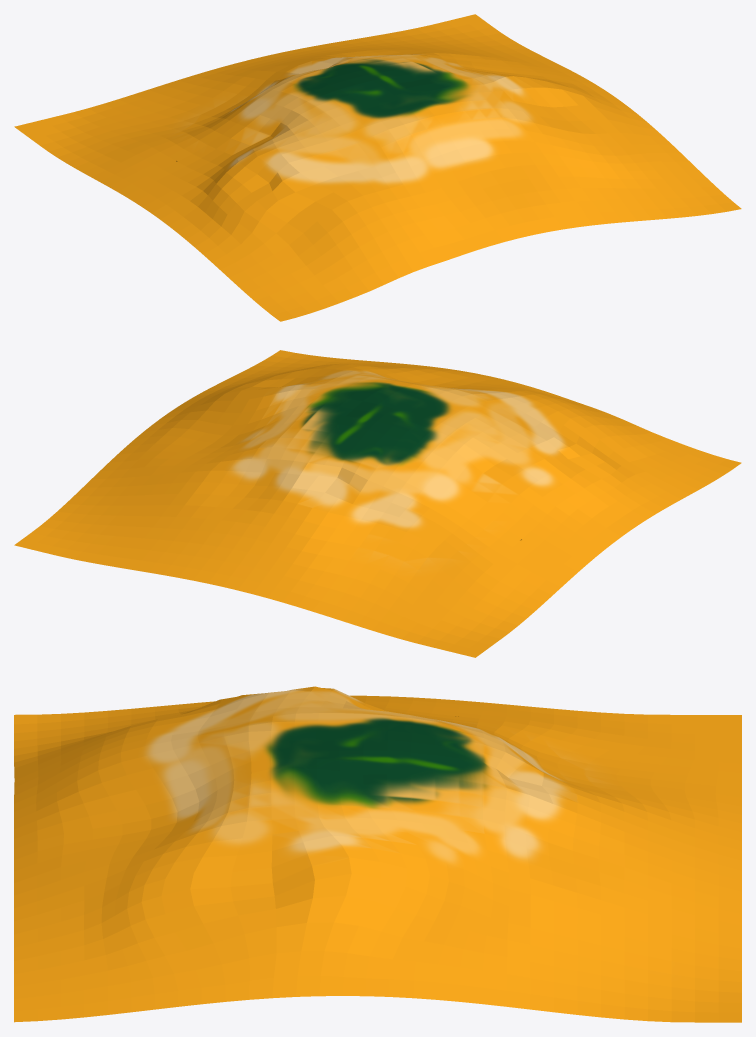
Rendered from island.glb.
The picture shows the model from 3 angles, top to bottom: view 1: azimuth 30°, elevation 25°; view 2: azimuth 150°, elevation 25°; view 3: azimuth 270°, elevation 25°; orthographic projection. The views are drawn at different scales.
Visible parts, largest first — view 1: Plane; view 2: Plane; view 3: Plane.
Boxes of the visible parts, <box> form: Plane: <box>14,14,741,321</box>; Plane: <box>14,350,741,657</box>; Plane: <box>14,686,741,1022</box>.
Bounding box in the file's own units: 50 × 8.98 × 50.
1 material, 1 textured.
